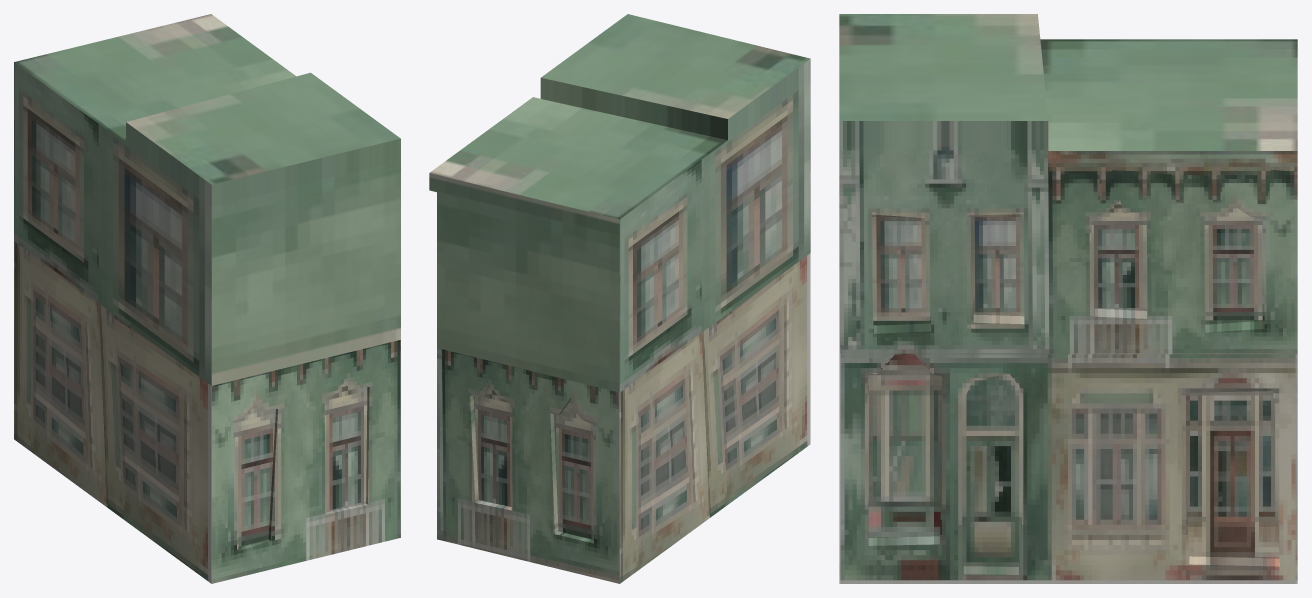
Rendered from House15.fbx.
3 views of the same model, side by side, from view 1: azimuth 30°, elevation 25°; view 2: azimuth 150°, elevation 25°; view 3: azimuth 270°, elevation 25° (orthographic). The views are drawn at different scales.
Visible parts, largest first — view 1: Cube; view 2: Cube; view 3: Cube.
Boxes of the visible parts, <box> form: Cube: <box>14,14,400,583</box>; Cube: <box>429,14,810,583</box>; Cube: <box>839,14,1297,583</box>.
Bounding box in the file's own units: 668 × 1294 × 1160.
1 material, 1 textured.
